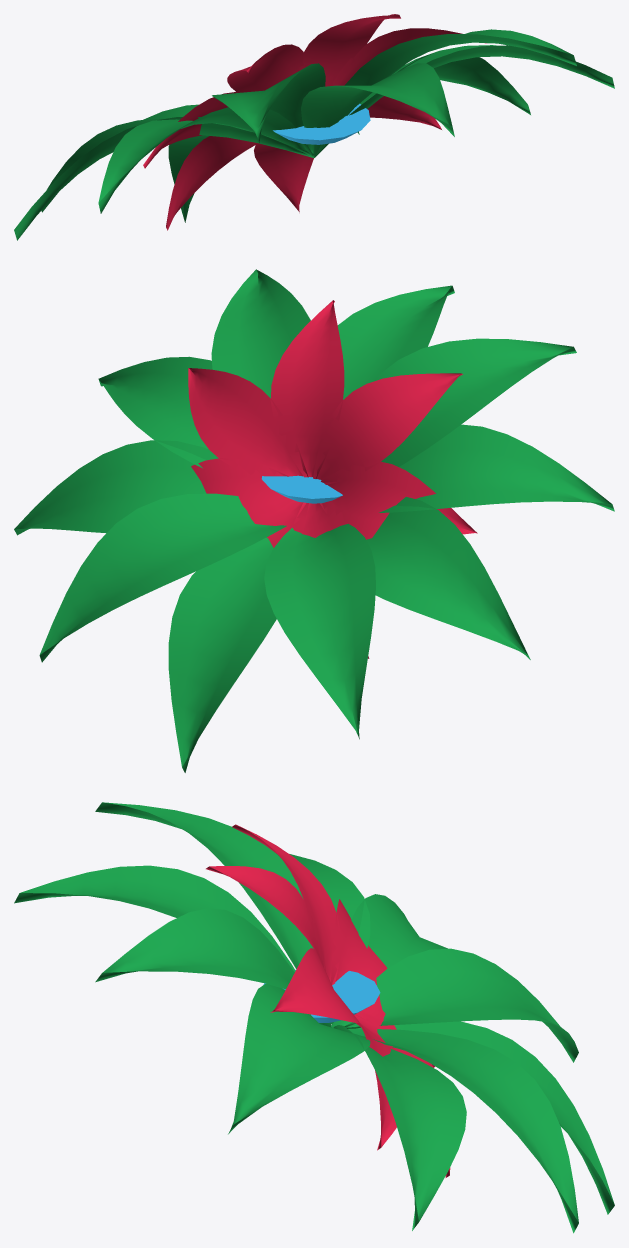
The model's file is bromeliad.glb.
3 views of the same model, one above another, from view 1: azimuth 30°, elevation 25°; view 2: azimuth 150°, elevation 25°; view 3: azimuth 270°, elevation 25° (orthographic). The views are drawn at different scales.
Visible parts, largest first — view 1: OuterLeaf_0, OuterLeaf_8, OuterLeaf_1, OuterLeaf_9, Bract_0, OuterLeaf_7, Bract_4, OuterLeaf_2, Bract_6, OuterLeaf_3, Bract_3, WaterPool (+5 smaller); view 2: OuterLeaf_4, OuterLeaf_6, OuterLeaf_5, OuterLeaf_7, OuterLeaf_8, OuterLeaf_3, OuterLeaf_9, Bract_0, Bract_6, Bract_1, OuterLeaf_1, OuterLeaf_0 (+6 smaller); view 3: OuterLeaf_6, OuterLeaf_4, OuterLeaf_2, OuterLeaf_3, OuterLeaf_1, OuterLeaf_0, OuterLeaf_9, OuterLeaf_5, OuterLeaf_7, Bract_1, Bract_6, Bract_0 (+5 smaller).
Part boxes in pixels (<box>): OuterLeaf_0: <box>301,63,454,157</box>; OuterLeaf_8: <box>98,107,314,213</box>; OuterLeaf_1: <box>316,29,576,155</box>; OuterLeaf_9: <box>212,63,325,156</box>; Bract_0: <box>299,14,400,86</box>; OuterLeaf_7: <box>14,117,313,240</box>; Bract_4: <box>166,136,257,230</box>; OuterLeaf_2: <box>315,45,614,157</box>; Bract_6: <box>227,44,309,92</box>; OuterLeaf_3: <box>398,52,530,114</box>; Bract_3: <box>254,143,313,212</box>; WaterPool: <box>273,103,370,144</box>; OuterLeaf_4: <box>39,493,286,662</box>; OuterLeaf_6: <box>264,523,375,739</box>; OuterLeaf_5: <box>168,537,276,772</box>; OuterLeaf_7: <box>366,497,530,659</box>; OuterLeaf_8: <box>379,424,614,512</box>; OuterLeaf_3: <box>14,440,218,535</box>; OuterLeaf_9: <box>373,338,576,466</box>; Bract_0: <box>270,300,344,478</box>; Bract_6: <box>313,373,462,484</box>; Bract_1: <box>188,368,308,477</box>; OuterLeaf_1: <box>211,269,310,398</box>; OuterLeaf_0: <box>337,285,454,399</box>; OuterLeaf_6: <box>331,948,578,1062</box>; OuterLeaf_4: <box>348,1028,578,1233</box>; OuterLeaf_2: <box>228,984,370,1134</box>; OuterLeaf_3: <box>333,1025,466,1230</box>; OuterLeaf_1: <box>95,908,330,1027</box>; OuterLeaf_0: <box>14,865,295,971</box>; OuterLeaf_9: <box>95,802,331,1025</box>; OuterLeaf_5: <box>346,1021,614,1214</box>; OuterLeaf_7: <box>331,894,447,1027</box>; Bract_1: <box>270,948,359,1022</box>; Bract_6: <box>232,824,340,985</box>; Bract_0: <box>206,866,324,968</box>.
Size of the model in its own units: 1.29 by 0.8006 by 1.19.
